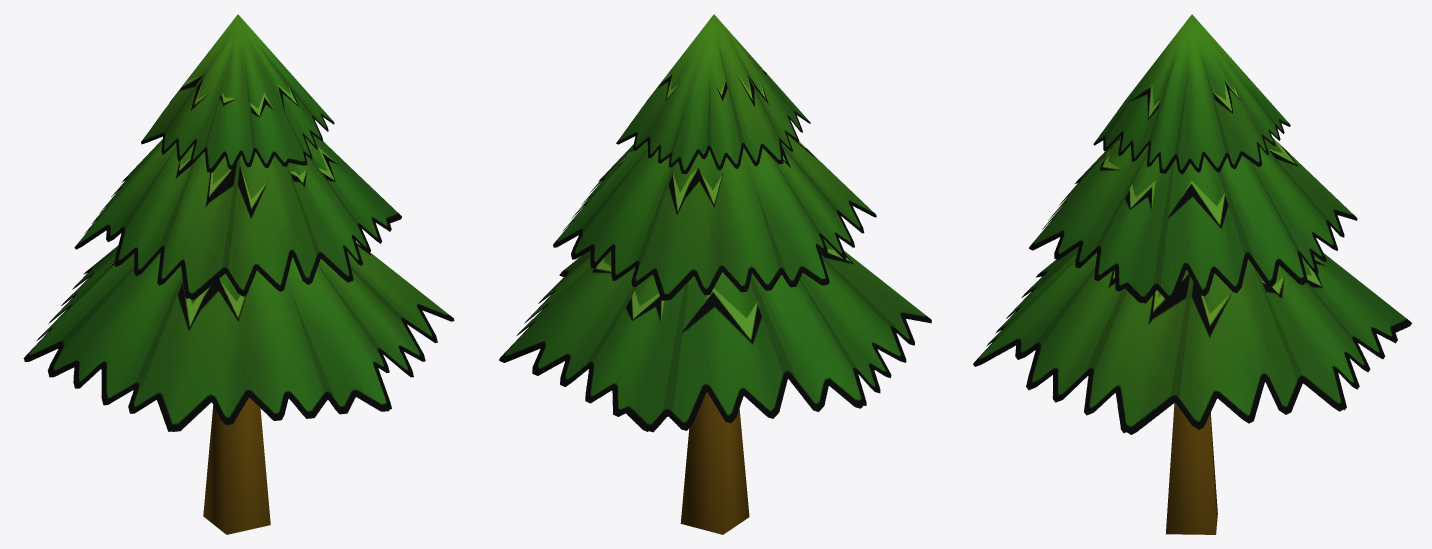
The model's file is tree_01.FBX.
3 views of the same model, side by side, from view 1: azimuth 30°, elevation 25°; view 2: azimuth 150°, elevation 25°; view 3: azimuth 270°, elevation 25° (orthographic).
Visible parts, largest first — view 1: tree_01; view 2: tree_01; view 3: tree_01.
Part boxes in pixels (x1,y1,x2,y2): tree_01: [23, 14, 454, 534]; tree_01: [499, 14, 931, 534]; tree_01: [973, 14, 1411, 534].
Bounding box in the file's own units: 1034 × 1316 × 1054.
